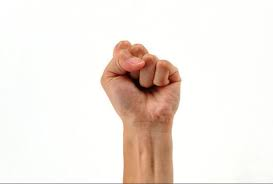fist: (99, 39, 185, 128)
